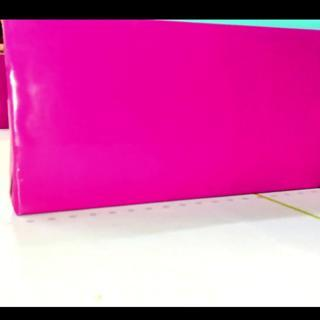xparking: (13, 29, 320, 217), (3, 60, 8, 133)
